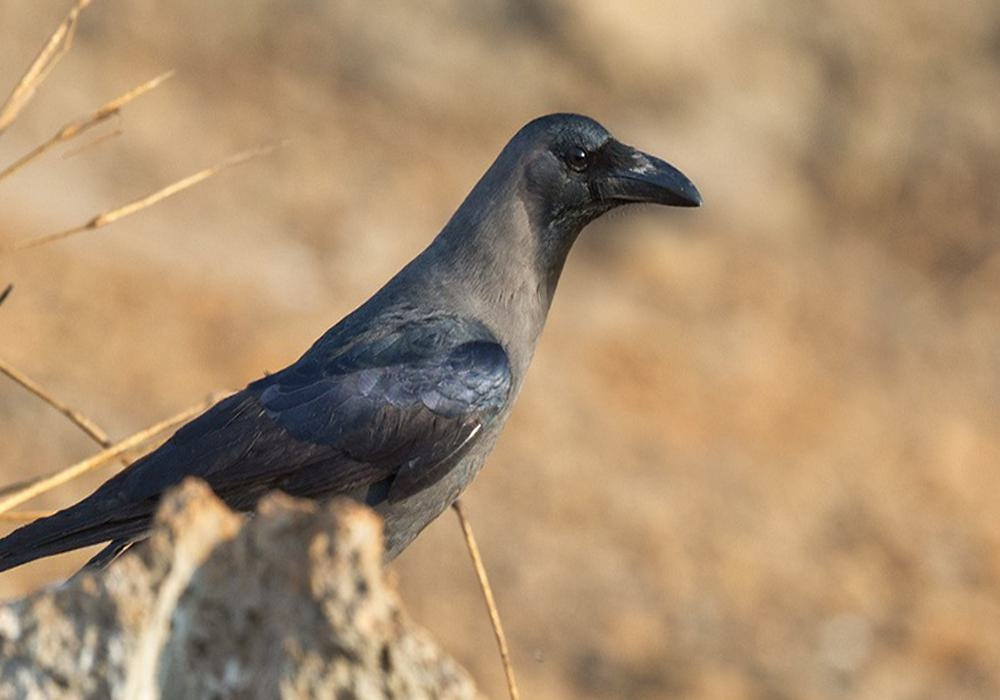crow: (13, 118, 717, 589)
